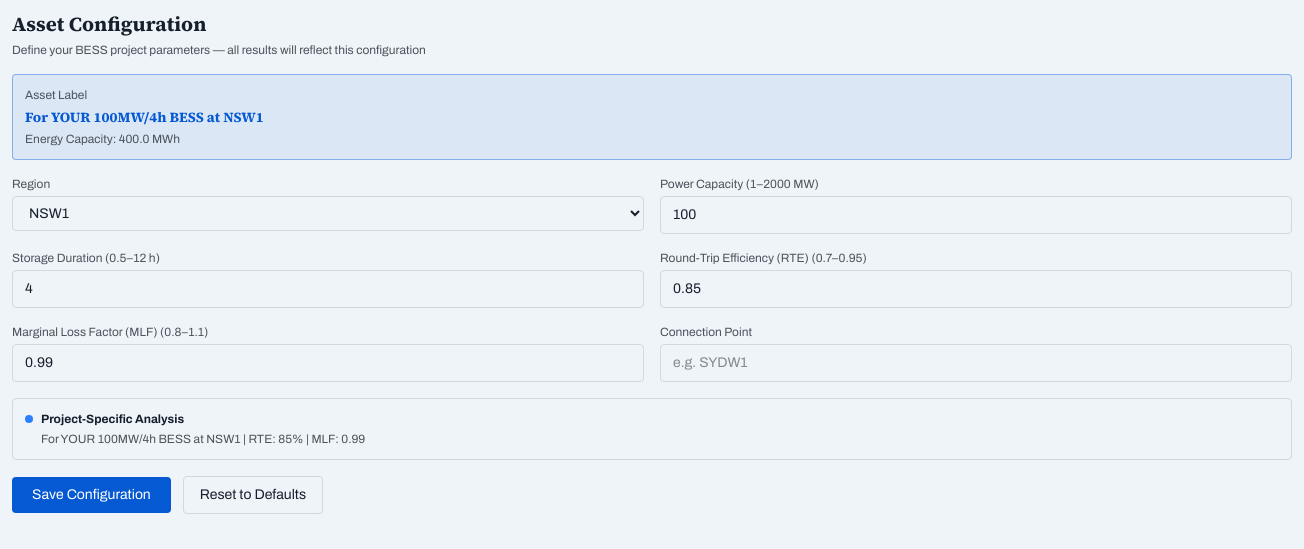
Test case: AssetConfigPanel › 无效值显示错误提示
This screenshot has width=1304, height=549.
expect the button "Save Configuration" is shown: met, box 12,477 -> 171,513
// 输入超出范围的值
Replace the text in the number field labelled "Power Capacity (1–2000 MW)" with "99999". click: x=976, y=215
box: 660,196 -> 1292,234
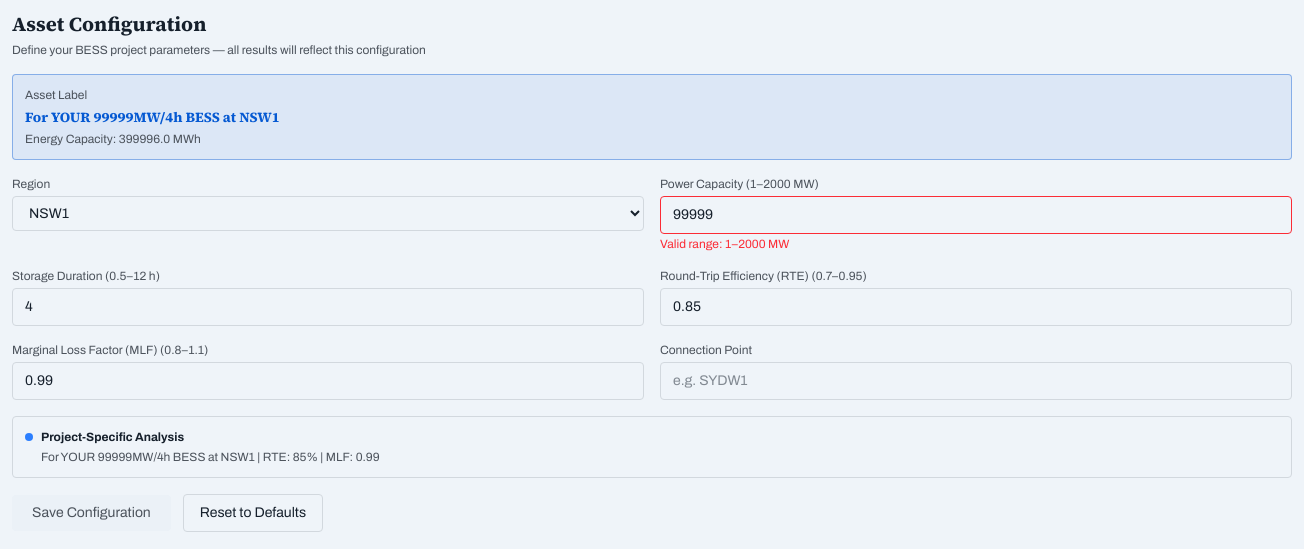
expect the text "Valid range: 1–2000 MW" is shown: met, box 660,237 -> 789,251
